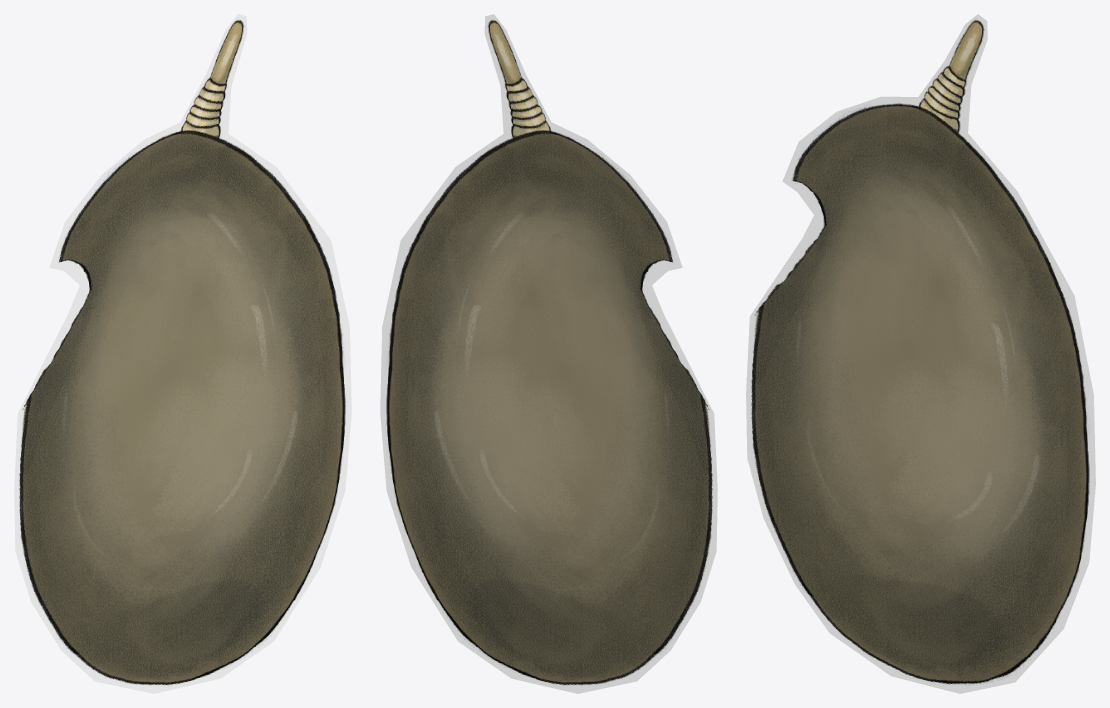
The model's file is mech.glb.
3 views of the same model, side by side, from view 1: azimuth 30°, elevation 25°; view 2: azimuth 150°, elevation 25°; view 3: azimuth 330°, elevation 25° (orthographic). The views are drawn at different scales.
Parts seen in each view (by area): view 1: Plane.017; view 2: Plane.017; view 3: Plane.017.
Part boxes in pixels (box(x1,y1,x2,y2)): Plane.017: box(14, 14, 351, 693); Plane.017: box(380, 14, 717, 693); Plane.017: box(746, 14, 1095, 693).
Bounding box in the file's own units: 9.84 × 18.39 × 0.
Materials: 1 (1 with a texture image).
